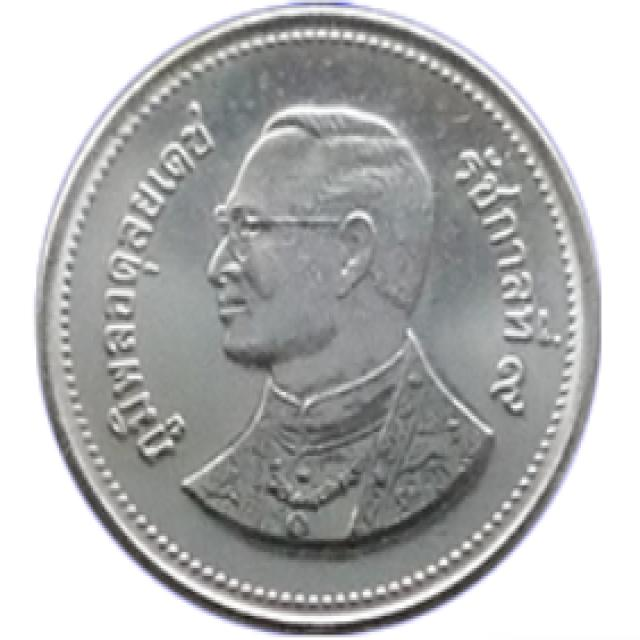2 Bath: (29, 4, 610, 640)
